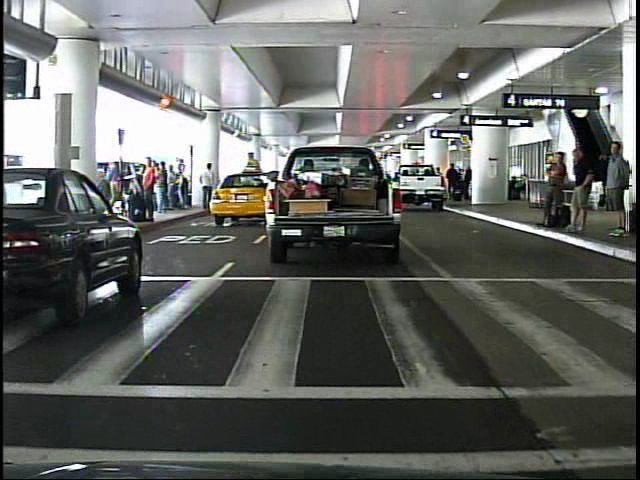person: (602, 138, 633, 243), (567, 142, 598, 238), (537, 146, 570, 235), (140, 155, 159, 223), (199, 160, 218, 214)
